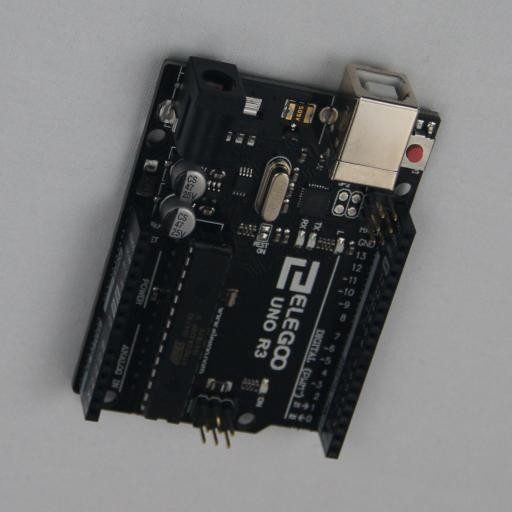Arduino Uno -Black-: (71, 54, 441, 459)
